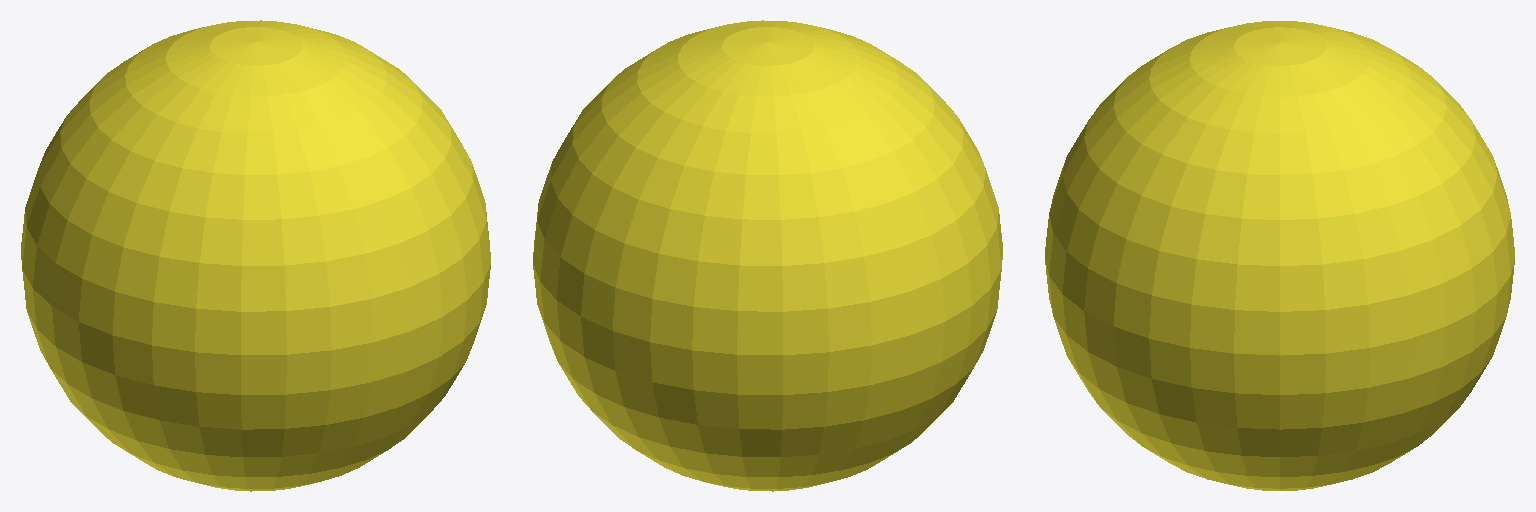
URDF robot description (gen3_robotiq_2f_85):
<?xml version="1.0" ?>
<!-- =================================================================================== -->
<!-- |    This document was autogenerated by xacro from gen3_robotiq_2f_85.xacro       | -->
<!-- |    EDITING THIS FILE BY HAND IS NOT RECOMMENDED                                 | -->
<!-- =================================================================================== -->
<robot name="gen3_robotiq_2f_85">
  <link name="base_link"/>
  <joint name="base_joint" type="fixed">
    <origin rpy="0 0 0" xyz="0 0 0"/>
    <parent link="base_link"/>
    <child link="base_link_inertia"/>
  </joint>

  <!-- Run the macros -->
  <link name="base_link_inertia">
    <inertial>
      <origin rpy="0 0 0" xyz="-0.000648 -0.000166 0.084487"/>
      <mass value="1.697"/>
      <inertia ixx="0.004622" ixy="9E-06" ixz="6E-05" iyy="0.004495" iyz="9E-06" izz="0.002079"/>
    </inertial>
    <visual>
      <origin rpy="0 0 0" xyz="0 0 0"/>
      <geometry>
        <mesh filename="meshes/6dof/base_link.STL"/>
      </geometry>
      <material name="">
        <color rgba="0.75294 0.75294 0.75294 1"/>
      </material>
    </visual>
    <collision>
      <origin rpy="0 0 0" xyz="0 0 0"/>
      <geometry>
        <mesh filename="meshes/6dof/base_link.STL"/>
      </geometry>
    </collision>
  </link>
  <link name="shoulder_link">
    <inertial>
      <origin rpy="0 0 0" xyz="-2.3E-05 -0.010364 -0.07336"/>
      <mass value="1.377"/>
      <inertia ixx="0.00457" ixy="1E-06" ixz="2E-06" iyy="0.004831" iyz="0.000448" izz="0.001409"/>
    </inertial>
    <visual>
      <origin rpy="0 0 0" xyz="0 0 0"/>
      <geometry>
        <mesh filename="meshes/6dof/shoulder_link.STL"/>
      </geometry>
      <material name="">
        <color rgba="0.75294 0.75294 0.75294 1"/>
      </material>
    </visual>
    <collision>
      <origin rpy="0 0 0" xyz="0 0 0"/>
      <geometry>
        <mesh filename="meshes/6dof/shoulder_link.STL"/>
      </geometry>
    </collision>
  </link>
  <joint name="joint_1" type="revolute">
    <!-- <origin rpy="-3.1416 0.0 0.0" xyz="0 0 0.15643"/> -->
    <origin rpy="-3.1416 0.0 0.0" xyz="0 0 0.17643"/>
    <parent link="base_link"/>
    <child link="shoulder_link"/>
    <axis xyz="0 0 1"/>
    <limit effort="39" lower="-3.14" upper="3.14" velocity="1.3963"/>
  </joint>
  <link name="bicep_link">
    <inertial>
      <origin rpy="0 0 0" xyz="3.5E-05 -0.208207 -0.01889"/>
      <mass value="1.262"/>
      <inertia ixx="0.046752" ixy="-9E-06" ixz="0" iyy="0.00085" iyz="-9.8E-05" izz="0.047188"/>
    </inertial>
    <visual>
      <origin rpy="0 0 0" xyz="0 0 0"/>
      <geometry>
        <mesh filename="meshes/6dof/bicep_link.STL"/>
      </geometry>
      <material name="">
        <color rgba="0.75294 0.75294 0.75294 1"/>
      </material>
    </visual>
    <collision>
      <origin rpy="0 0 0" xyz="0 0 0"/>
      <geometry>
        <mesh filename="meshes/6dof/bicep_link.STL"/>
      </geometry>
    </collision>
  </link>
  <joint name="joint_2" type="revolute">
    <origin rpy="1.5708 0.0 0.0" xyz="0 0.005375 -0.12838"/>
    <parent link="shoulder_link"/>
    <child link="bicep_link"/>
    <axis xyz="0 0 1"/>
    <limit effort="39" lower="-2.24" upper="2.24" velocity="1.3963"/>
  </joint>
  <link name="forearm_link">
    <inertial>
      <origin rpy="0 0 0" xyz="1.8E-05 0.076168 -0.01397"/>
      <mass value="0.93"/>
      <inertia ixx="0.008292" ixy="-1E-06" ixz="0" iyy="0.000628" iyz="0.000432" izz="0.008464"/>
    </inertial>
    <visual>
      <origin rpy="0 0 0" xyz="0 0 0"/>
      <geometry>
        <mesh filename="meshes/6dof/forearm_link.STL"/>
      </geometry>
      <material name="">
        <color rgba="0.75294 0.75294 0.75294 1"/>
      </material>
    </visual>
    <collision>
      <origin rpy="0 0 0" xyz="0 0 0"/>
      <geometry>
        <mesh filename="meshes/6dof/forearm_link.STL"/>
      </geometry>
    </collision>
  </link>
  <joint name="joint_3" type="revolute">
    <origin rpy="3.1416 0 0" xyz="0 -0.41 0"/>
    <parent link="bicep_link"/>
    <child link="forearm_link"/>
    <axis xyz="0 0 1"/>
    <limit effort="39" lower="-2.57" upper="2.57" velocity="1.3963"/>
  </joint>
  <link name="spherical_wrist_1_link">
    <inertial>
      <origin rpy="0 0 0" xyz="-1E-06 0.008486 -0.062937"/>
      <mass value="0.6781"/>
      <inertia ixx="0.001645" ixy="0" ixz="0" iyy="0.001666" iyz="-0.000234" izz="0.000389"/>
    </inertial>
    <visual>
      <origin rpy="0 0 0" xyz="0 0 0"/>
      <geometry>
        <mesh filename="meshes/6dof/spherical_wrist_1_link.STL"/>
      </geometry>
      <material name="">
        <color rgba="0.75294 0.75294 0.75294 1"/>
      </material>
    </visual>
    <collision>
      <origin rpy="0 0 0" xyz="0 0 0"/>
      <geometry>
        <mesh filename="meshes/6dof/spherical_wrist_1_link.STL"/>
      </geometry>
    </collision>
  </link>
  <joint name="joint_4" type="revolute">
    <origin rpy="1.5708 0.0 0.0" xyz="0 0.20843 -0.006375"/>
    <parent link="forearm_link"/>
    <child link="spherical_wrist_1_link"/>
    <axis xyz="0 0 1"/>
    <limit effort="9" lower="-3.14" upper="3.14" velocity="1.2218"/>
  </joint>
  <link name="spherical_wrist_2_link">
    <inertial>
      <origin rpy="0 0 0" xyz="-1E-06 0.046429 -0.008704"/>
      <mass value="0.678"/>
      <inertia ixx="0.001685" ixy="0" ixz="0" iyy="0.0004" iyz="0.000255" izz="0.001696"/>
    </inertial>
    <visual>
      <origin rpy="0 0 0" xyz="0 0 0"/>
      <geometry>
        <mesh filename="meshes/6dof/spherical_wrist_2_link.STL"/>
      </geometry>
      <material name="">
        <color rgba="0.75294 0.75294 0.75294 1"/>
      </material>
    </visual>
    <collision>
      <origin rpy="0 0 0" xyz="0 0 0"/>
      <geometry>
        <mesh filename="meshes/6dof/spherical_wrist_2_link.STL"/>
      </geometry>
    </collision>
  </link>
  <joint name="joint_5" type="revolute">
    <origin rpy="-1.5708 0.0 0.0" xyz="0 -0.00017505 -0.10593"/>
    <parent link="spherical_wrist_1_link"/>
    <child link="spherical_wrist_2_link"/>
    <axis xyz="0 0 1"/>
    <limit effort="9" lower="-2.09" upper="2.09" velocity="1.2218"/>
  </joint>
  <link name="bracelet_link">
    <inertial>
      <origin rpy="0 0 0" xyz="-9.3E-05 0.000132 -0.022905"/>
      <mass value="0.364"/>
      <inertia ixx="0.000214" ixy="0" ixz="1E-06" iyy="0.000223" iyz="-2E-06" izz="0.00024"/>
    </inertial>
    <visual>
      <origin rpy="0 0 0" xyz="0 0 0"/>
      <geometry>
        <mesh filename="meshes/6dof/bracelet_no_vision_link.STL"/>
      </geometry>
      <material name="">
        <color rgba="0.75294 0.75294 0.75294 1"/>
      </material>
    </visual>
    <collision>
      <origin rpy="0 0 0" xyz="0 0 0"/>
      <geometry>
        <mesh filename="meshes/6dof/bracelet_no_vision_link.STL"/>
      </geometry>
    </collision>
  </link>
  <joint name="joint_6" type="revolute">
    <origin rpy="1.5708 0.0 0.0" xyz="0 0.10593 -0.00017505"/>
    <parent link="spherical_wrist_2_link"/>
    <child link="bracelet_link"/>
    <axis xyz="0 0 1"/>
    <limit effort="9" lower="-3.14" upper="3.14" velocity="1.2218"/>
  </joint>
  <link name="end_effector_link"/>
  <joint name="end_effector" type="fixed">
    <origin rpy="3.14159265358979 1.09937075168372E-32 3.14159265358979" xyz="0 0 -0.0615250000000001"/>
    <parent link="bracelet_link"/>
    <child link="end_effector_link"/>
    <axis xyz="0 0 0"/>
  </joint>
  <!-- Tool frame used by the arm -->
  <link name="tool_frame"/>
  <joint name="tool_frame_joint" type="fixed">
    <origin rpy="0 0 0" xyz="0 0 0.120"/>
    <parent link="end_effector_link"/>
    <child link="tool_frame"/>
    <axis xyz="0 0 0"/>
  </joint>
  <!-- This joint was added by Kinova -->
  <joint name="gripper_base_joint" type="fixed">
    <parent link="end_effector_link"/>
    <child link="robotiq_85_base_link"/>
    <origin rpy="0 -1.57079632679 -1.57079632679" xyz="0.0 0.0 0.0"/>
  </joint>

  <link name="robotiq_85_base_link">
    <visual>
      <geometry>
        <mesh filename="meshes/robotiq_85_gripper/visual/robotiq_85_base_link.dae"/>
      </geometry>
    </visual>
    <collision>
      <geometry>
        <mesh filename="meshes/robotiq_85_gripper/collision/robotiq_85_base_link.stl"/>
      </geometry>
    </collision>
    <inertial>
      <mass value="0.636951" />
      <origin xyz="0.0 0.0 0.0" />
      <inertia ixx = "0.000380" ixy = "0.000000" ixz = "0.000000"
            iyx = "0.000000" iyy = "0.001110" iyz = "0.000000"
            izx = "0.000000" izy = "0.000000" izz = "0.001171" />
    </inertial>
  </link>

  <!-- <joint name="robotiq_85_left_knuckle_joint" type="revolute"> -->
  <joint name="robotiq_85_left_knuckle_joint" type="fixed">
    <parent link="robotiq_85_base_link"/>
    <child link="robotiq_85_left_knuckle_link"/>
    <axis xyz="0 0 1"/>
    <origin rpy="3.14 0.0 0.0" xyz="0.05490451627 0.03060114443 0.0"/>
    <!-- <limit lower="0.0" upper="0.80285" velocity="3.14" effort="1000"/> -->
  </joint>

  <!-- <joint name="robotiq_85_right_knuckle_joint" type="revolute"> -->
  <joint name="robotiq_85_right_knuckle_joint" type="fixed">
    <parent link="robotiq_85_base_link"/>
    <child link="robotiq_85_right_knuckle_link"/>
    <axis xyz="0 0 1"/>
    <origin rpy="0.0 0.0 0.0" xyz="0.05490451627 -0.03060114443 0.0"/>
    <!-- <limit lower="-3.14" upper="3.14" velocity="3.14" effort="1000"/>
    <mimic joint="robotiq_85_left_knuckle_joint"/> -->
  </joint>

  <link name="robotiq_85_left_knuckle_link">
    <visual>
      <geometry>
        <mesh filename="meshes/robotiq_85_gripper/visual/robotiq_85_knuckle_link.dae"/>
      </geometry>
    </visual>
    <collision>
      <geometry>
        <mesh filename="meshes/robotiq_85_gripper/collision/robotiq_85_knuckle_link.stl"/>
      </geometry>
    </collision>
    <inertial>
      <mass value="0.018491" />
      <origin xyz="0.0 0.0 0.0" />
      <inertia ixx = "0.000009" ixy = "-0.000001" ixz = "0.000000"
            iyx = "-0.000001" iyy = "0.000001" iyz = "0.000000"
            izx = "0.000000" izy = "0.000000" izz = "0.000010" />
    </inertial>
  </link>

  <link name="robotiq_85_right_knuckle_link">
    <visual>
      <geometry>
        <mesh filename="meshes/robotiq_85_gripper/visual/robotiq_85_knuckle_link.dae"/>
      </geometry>
    </visual>
    <collision>
      <geometry>
        <mesh filename="meshes/robotiq_85_gripper/collision/robotiq_85_knuckle_link.stl"/>
      </geometry>
    </collision>
    <inertial>
      <mass value="0.018491" />
      <origin xyz="0.0 0.0 0.0" />
      <inertia ixx = "0.000009" ixy = "-0.000001" ixz = "0.000000"
            iyx = "-0.000001" iyy = "0.000001" iyz = "0.000000"
            izx = "0.000000" izy = "0.000000" izz = "0.000010" />
    </inertial>
  </link>

  <joint name="robotiq_85_left_finger_joint" type="fixed">
    <parent link="robotiq_85_left_knuckle_link"/>
    <child link="robotiq_85_left_finger_link"/>
    <origin xyz="-0.00408552455 -0.03148604435 0.0" rpy="0 0 0" />
  </joint>

  <joint name="robotiq_85_right_finger_joint" type="fixed">
    <parent link="robotiq_85_right_knuckle_link"/>
    <child link="robotiq_85_right_finger_link"/>
    <origin xyz="-0.00408552455 -0.03148604435 0.0" rpy="0 0 0" />
  </joint>

  <link name="robotiq_85_left_finger_link">
    <visual>
      <geometry>
        <mesh filename="meshes/robotiq_85_gripper/visual/robotiq_85_finger_link.dae"/>
      </geometry>
    </visual>
    <collision>
      <geometry>
        <mesh filename="meshes/robotiq_85_gripper/collision/robotiq_85_finger_link.stl"/>
      </geometry>
    </collision>
    <inertial>
      <mass value="0.027309" />
      <origin xyz="0.0 0.0 0.0" />
      <inertia ixx = "0.000003" ixy = "-0.000002" ixz = "0.000000"
            iyx = "-0.000002" iyy = "0.000021" iyz = "0.000000"
            izx = "0.000000" izy = "0.000000" izz = "0.000020" />
    </inertial>
  </link>

  <link name="robotiq_85_right_finger_link">
    <visual>
      <geometry>
        <mesh filename="meshes/robotiq_85_gripper/visual/robotiq_85_finger_link.dae"/>
      </geometry>
    </visual>
    <collision>
      <geometry>
        <mesh filename="meshes/robotiq_85_gripper/collision/robotiq_85_finger_link.stl"/>
      </geometry>
    </collision>
    <inertial>
      <mass value="0.027309" />
      <origin xyz="0.0 0.0 0.0" />
      <inertia ixx = "0.000003" ixy = "-0.000002" ixz = "0.000000"
            iyx = "-0.000002" iyy = "0.000021" iyz = "0.000000"
            izx = "0.000000" izy = "0.000000" izz = "0.000020" />
    </inertial>
  </link>

  <!-- <joint name="robotiq_85_left_inner_knuckle_joint" type="revolute"> -->
  <joint name="robotiq_85_left_inner_knuckle_joint" type="fixed">
    <parent link="robotiq_85_base_link"/>
    <child link="robotiq_85_left_inner_knuckle_link"/>
    <axis xyz="0 0 1"/>
    <origin xyz="0.06142 0.0127 0" rpy="3.14 0.0 0.0" />
    <!-- <limit lower="-3.14" upper="3.14" velocity="3.14" effort="0.1"/>
    <mimic joint="robotiq_85_left_knuckle_joint" offset="0"/> -->
  </joint>

  <!-- <joint name="robotiq_85_right_inner_knuckle_joint" type="revolute"> -->
  <joint name="robotiq_85_right_inner_knuckle_joint" type="fixed">
    <parent link="robotiq_85_base_link"/>
    <child link="robotiq_85_right_inner_knuckle_link"/>
    <axis xyz="0 0 1"/>
    <origin xyz="0.06142 -0.0127 0" rpy="0 0 0"/>
    <!-- <limit lower="-3.14" upper="3.14" velocity="3.14" effort="0.1"/>
    <mimic joint="robotiq_85_left_knuckle_joint" offset="0"/> -->
  </joint>

  <link name="robotiq_85_left_inner_knuckle_link">
    <visual>
      <geometry>
        <mesh filename="meshes/robotiq_85_gripper/visual/robotiq_85_inner_knuckle_link.dae"/>
      </geometry>
    </visual>
    <collision>
      <geometry>
        <mesh filename="meshes/robotiq_85_gripper/collision/robotiq_85_inner_knuckle_link.stl"/>
      </geometry>
    </collision>
    <inertial>
      <mass value="0.029951" />
      <origin xyz="0.0 0.0 0.0" />
      <inertia ixx = "0.000039" ixy = "0.000000" ixz = "0.000000"
            iyx = "0.000000" iyy = "0.000005" iyz = "0.000000"
            izx = "0.000000" izy = "0.000000" izz = "0.000035" />
    </inertial>
  </link>
  <link name="robotiq_85_right_inner_knuckle_link">
    <visual>
      <geometry>
        <mesh filename="meshes/robotiq_85_gripper/visual/robotiq_85_inner_knuckle_link.dae"/>
      </geometry>
    </visual>
    <collision>
      <geometry>
        <mesh filename="meshes/robotiq_85_gripper/collision/robotiq_85_inner_knuckle_link.stl"/>
      </geometry>
    </collision>
    <inertial>
      <mass value="0.029951" />
      <origin xyz="0.0 0.0 0.0" />
      <inertia ixx = "0.000039" ixy = "0.000000" ixz = "0.000000"
            iyx = "0.000000" iyy = "0.000005" iyz = "0.000000"
            izx = "0.000000" izy = "0.000000" izz = "0.000035" />
    </inertial>
  </link>

  <!-- <joint name="robotiq_85_left_finger_tip_joint" type="revolute"> -->
  <joint name="robotiq_85_left_finger_tip_joint" type="fixed">
    <parent link="robotiq_85_left_inner_knuckle_link"/>
    <child link="robotiq_85_left_finger_tip_link"/>
    <axis xyz="0 0 1"/>
    <origin xyz="0.04303959807 -0.03759940821 0.0" rpy="0.0 0.0 0.0"/>
    <!-- <limit lower="-3.14" upper="3.14" velocity="3.14" effort="0.1"/>
    <mimic joint="robotiq_85_left_knuckle_joint" multiplier="-1"/> -->
  </joint>

  <!-- <joint name="robotiq_85_right_finger_tip_joint" type="revolute"> -->
  <joint name="robotiq_85_right_finger_tip_joint" type="fixed">
    <parent link="robotiq_85_right_inner_knuckle_link"/>
    <child link="robotiq_85_right_finger_tip_link"/>
    <axis xyz="0 0 1"/>
    <origin rpy="0.0 0.0 0.0" xyz="0.04303959807 -0.03759940821  0.0"/>
    <!-- <limit lower="-3.14" upper="3.14" velocity="3.14" effort="0.1"/>
    <mimic joint="robotiq_85_left_knuckle_joint" multiplier="-1"/> -->
  </joint>


  <link name="robotiq_85_left_finger_tip_link">
    <visual>
      <geometry>
        <mesh filename="meshes/robotiq_85_gripper/visual/robotiq_85_finger_tip_link.dae"/>
      </geometry>
    </visual>
    <collision>
      <geometry>
        <mesh filename="meshes/robotiq_85_gripper/collision/robotiq_85_finger_tip_link.stl"/>
      </geometry>
    </collision>
    <inertial>
      <mass value="0.019555" />
      <origin xyz="0.0 0.0 0.0" />
      <inertia ixx = "0.000002" ixy = "0.000000" ixz = "0.000000"
            iyx = "0.000000" iyy = "0.000005" iyz = "0.000000"
            izx = "0.000000" izy = "0.000000" izz = "0.000006" />
    </inertial>
  </link>

  <link name="robotiq_85_right_finger_tip_link">
    <visual>
      <geometry>
        <mesh filename="meshes/robotiq_85_gripper/visual/robotiq_85_finger_tip_link.dae"/>
      </geometry>
    </visual>
    <collision>
      <geometry>
        <mesh filename="meshes/robotiq_85_gripper/collision/robotiq_85_finger_tip_link.stl"/>
      </geometry>
    </collision>
    <inertial>
      <mass value="0.019555" />
      <origin xyz="0.0 0.0 0.0" />
      <inertia ixx = "0.000002" ixy = "0.000000" ixz = "0.000000"
            iyx = "0.000000" iyy = "0.000005" iyz = "0.000000"
            izx = "0.000000" izy = "0.000000" izz = "0.000006" />
    </inertial>
  </link>

  <link name="gripper_base_target">
    <visual>
      <geometry>
        <sphere radius="0.01"/>
      </geometry>
    </visual>
  </link>
  <joint name="gripper_parent_to_target" type="fixed">
    <origin rpy="0 0 -1.57079632679" xyz="0 0 0.045"/>
    <parent link="end_effector_link"/>
    <child link="gripper_base_target"/>
    <axis xyz="0 0 0"/>
  </joint>

</robot>

--- Render facts (derived) ---
3 views of the same robot in one strip: view 1: azimuth 30°, elevation 25°; view 2: azimuth 150°, elevation 25°; view 3: azimuth 270°, elevation 25° (orthographic).
Robot: gen3_robotiq_2f_85 — 20 links, 19 joints (6 revolute, 13 fixed); root link base_link; default pose: every joint at zero.
Links seen in each view (by area): view 1: gripper_base_target; view 2: gripper_base_target; view 3: gripper_base_target.
Boxes of the visible links, bbox=[...] form: gripper_base_target: bbox=[21, 20, 490, 491]; gripper_base_target: bbox=[533, 20, 1002, 491]; gripper_base_target: bbox=[1045, 21, 1514, 490].
Size in the robot's own frame: 0.02 by 0.02 by 0.02 metres.
Meshes: 12 distinct files referenced, 0 mesh visuals loaded (none loaded); not drawn: 16 (reference not matched to a file when rendering).